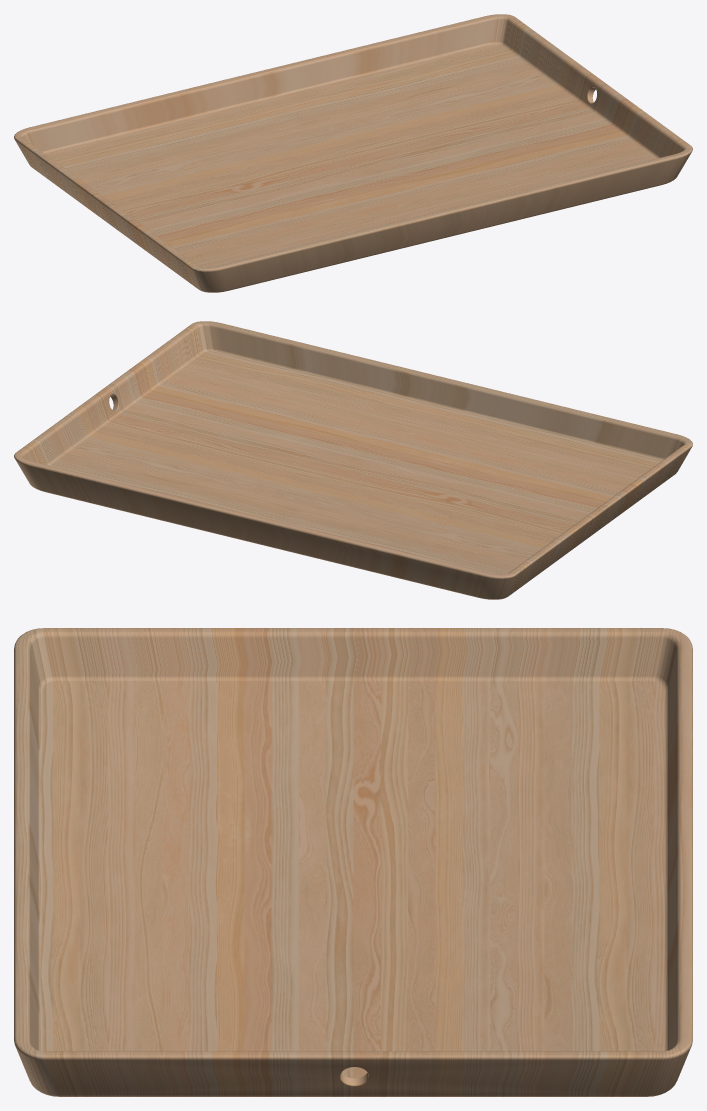
The model's file is Tray_KX.glb.
3 views of the same model, one above another, from view 1: azimuth 30°, elevation 25°; view 2: azimuth 150°, elevation 25°; view 3: azimuth 270°, elevation 25° (orthographic). The views are drawn at different scales.
Parts seen in each view (by area): view 1: traymesh.002; view 2: traymesh.002; view 3: traymesh.002.
Boxes of the visible parts, x1=… form: traymesh.002: x1=14, y1=14, x2=692, y2=292; traymesh.002: x1=14, y1=321, x2=692, y2=599; traymesh.002: x1=14, y1=628, x2=692, y2=1096.
Size of the model in its own units: 0.4524 by 0.0258 by 0.3025.
Materials: 1 (1 with a texture image).
